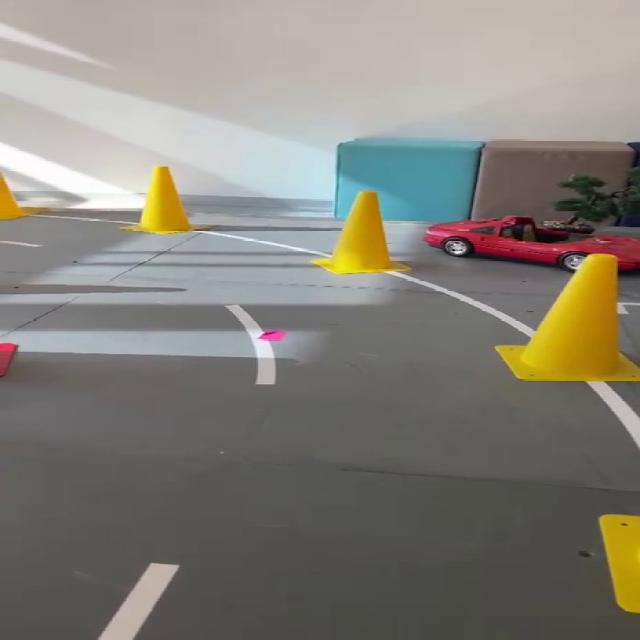Cone-red: (0, 342, 17, 377)
Cones-yellow: (495, 254, 639, 382), (312, 191, 406, 274), (124, 166, 192, 233), (600, 515, 639, 613), (0, 175, 28, 218)
